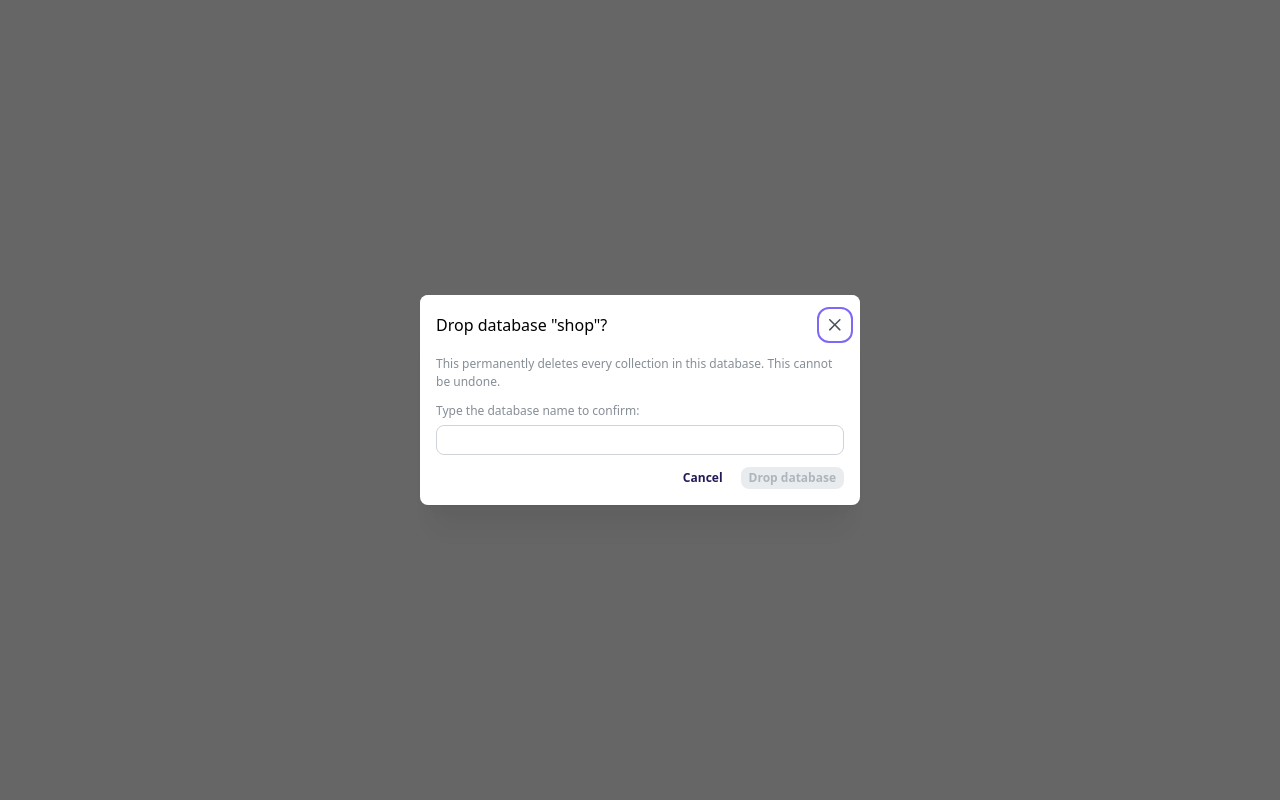
it: DropDatabaseConfirm › shows an inline error on API failure
This screenshot has width=1280, height=800.
In the field named "Confirm database name": (640, 440) [436,425,844,455], type "shop"
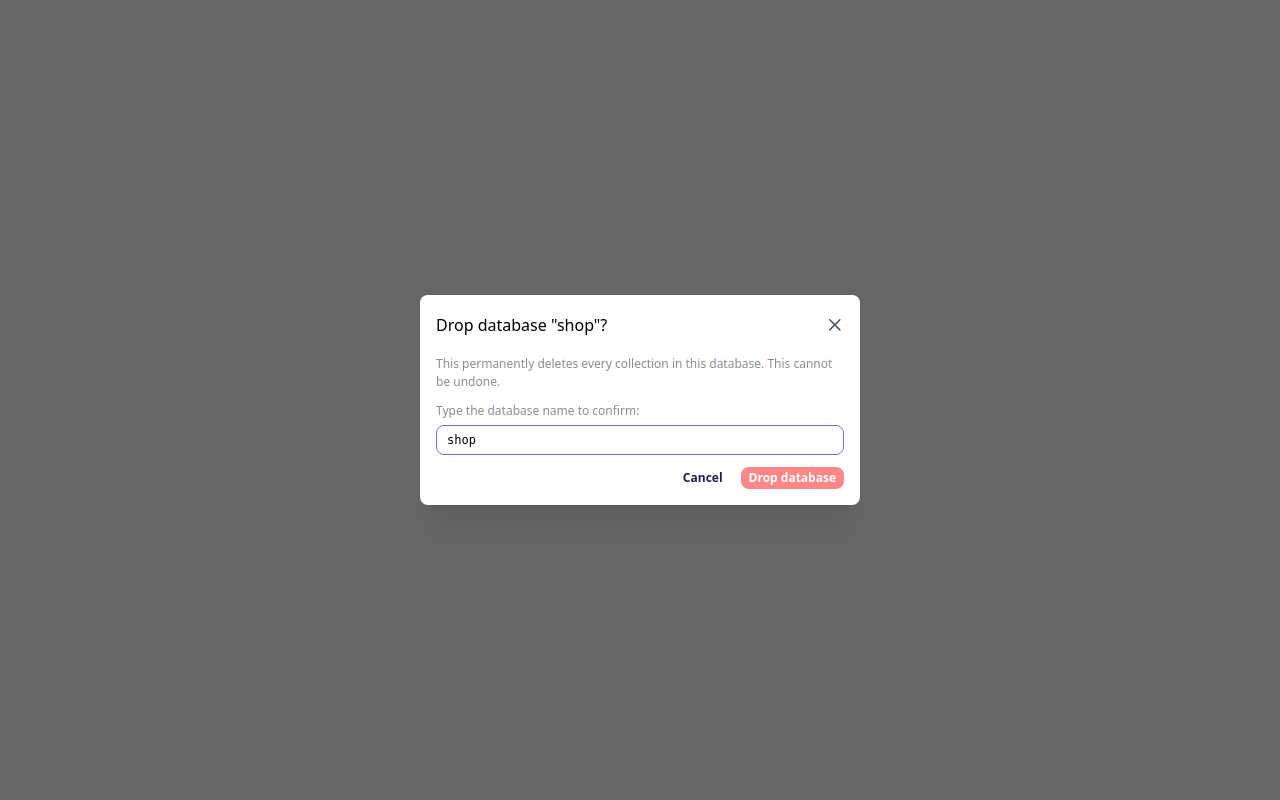
Click the button "Drop database": click(792, 478) [741,467,844,489]
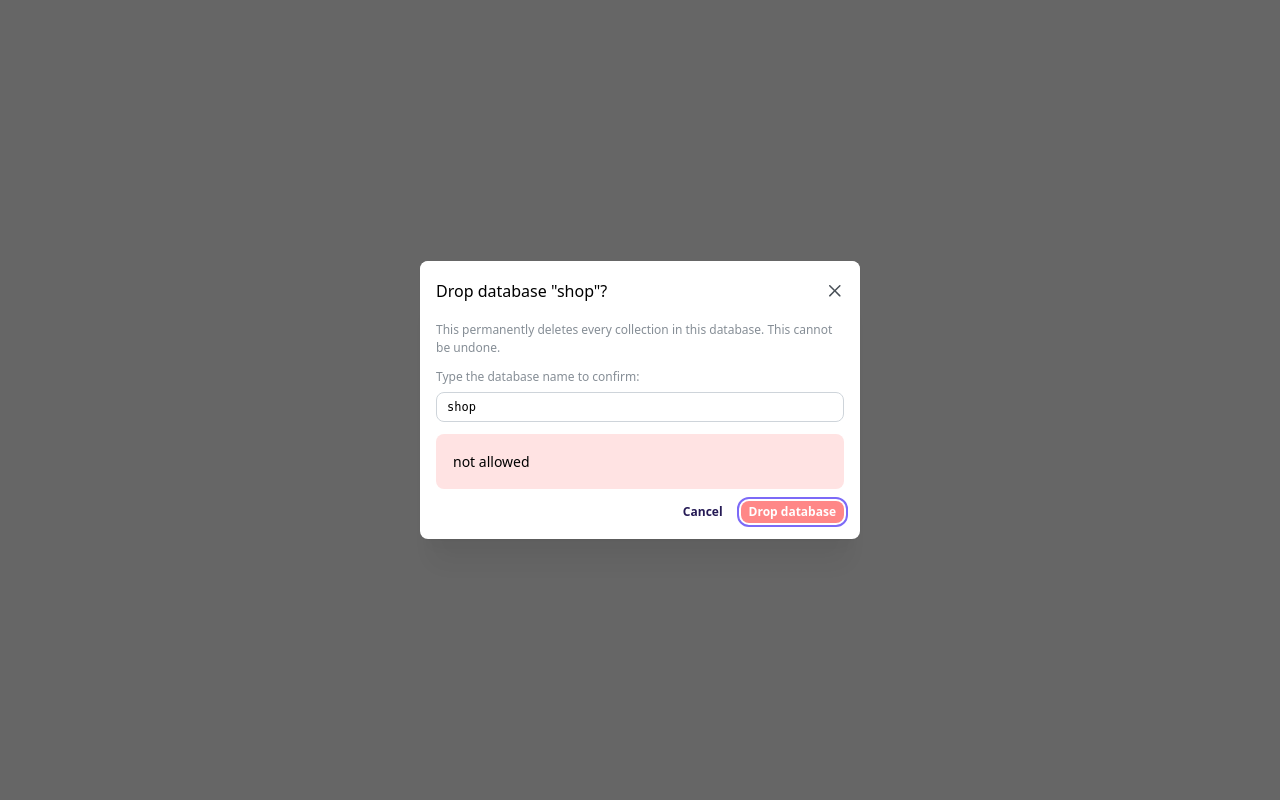
Check: the message reads "not allowed", box [453,452,530,470]
